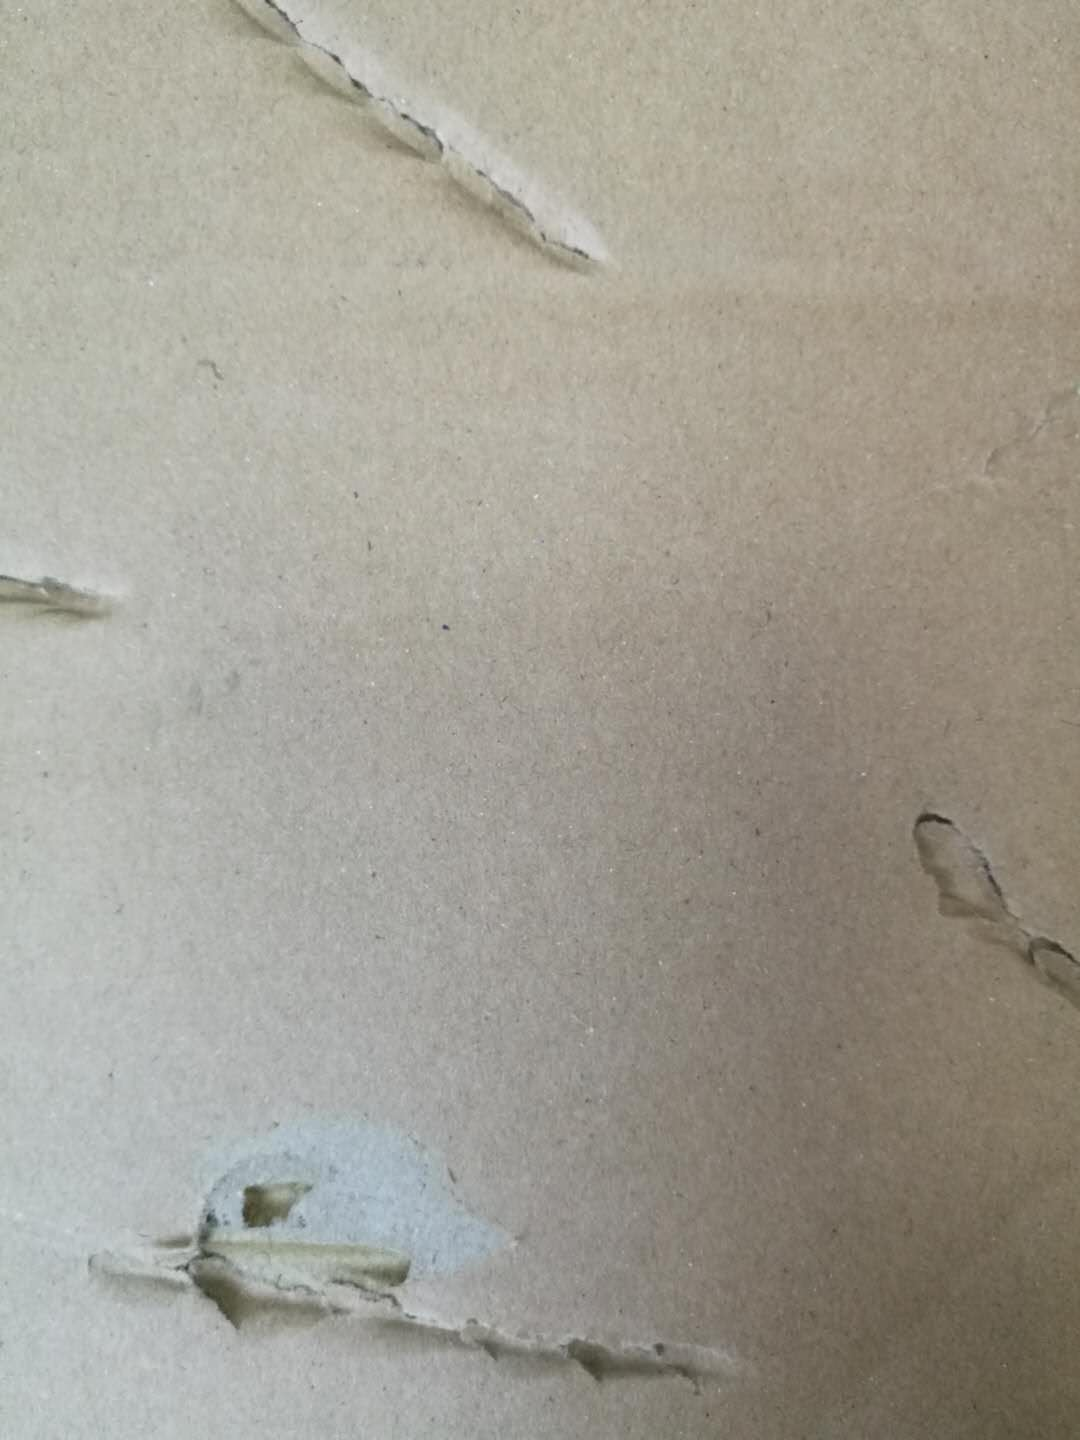defect: (32, 1099, 815, 1424), (211, 1, 646, 293), (889, 781, 1080, 1017), (951, 369, 1080, 568), (2, 522, 146, 655)
